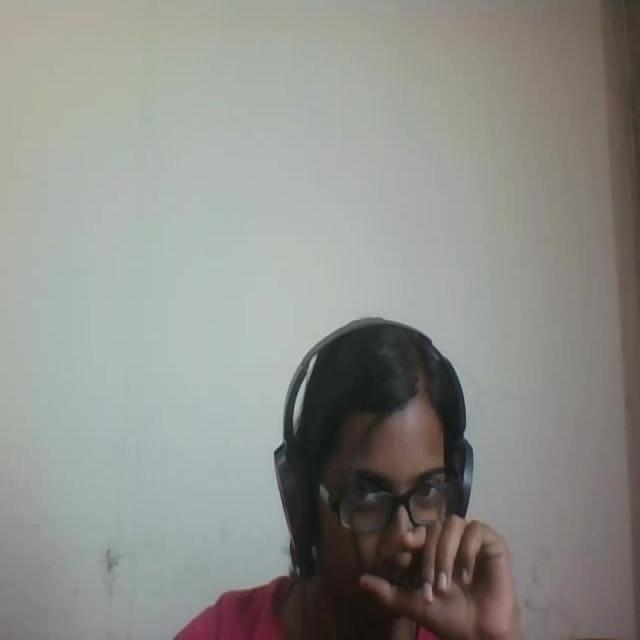Bored: (245, 288, 535, 640)
